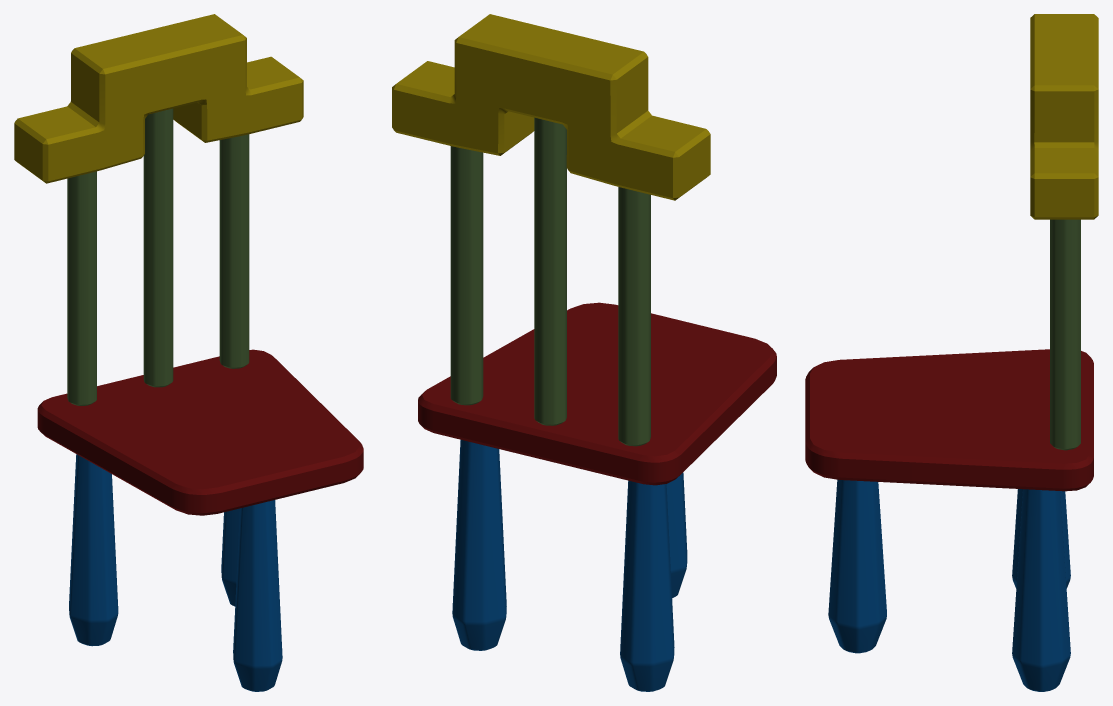
File: Chaircolor.fbx
3 renders of one model, left to right at view 1: azimuth 30°, elevation 25°; view 2: azimuth 150°, elevation 25°; view 3: azimuth 270°, elevation 25°, orthographic. The views are drawn at different scales.
Parts seen in each view (by area): view 1: leg4; view 2: leg4; view 3: leg4.
Boxes of the visible parts, <box> form: leg4: <box>14,14,363,691</box>; leg4: <box>392,14,776,691</box>; leg4: <box>805,14,1098,691</box>.
Size of the model in its own units: 6.85 by 14.35 by 6.38.
